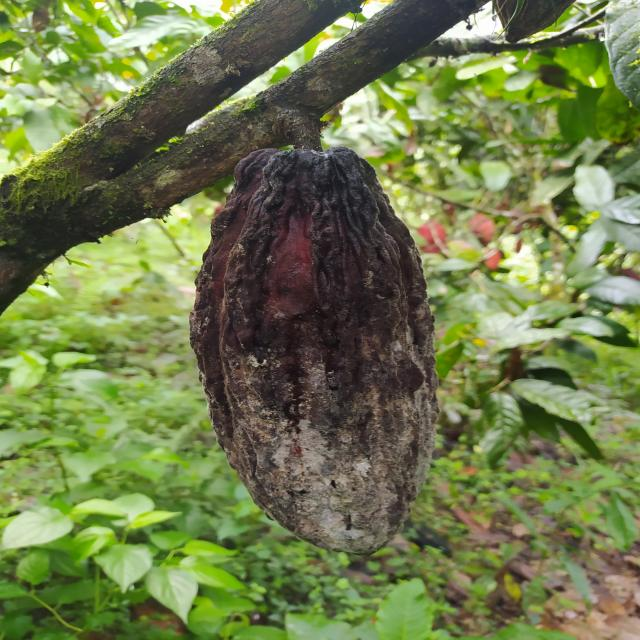Fitoftora: (188, 147, 440, 550)
